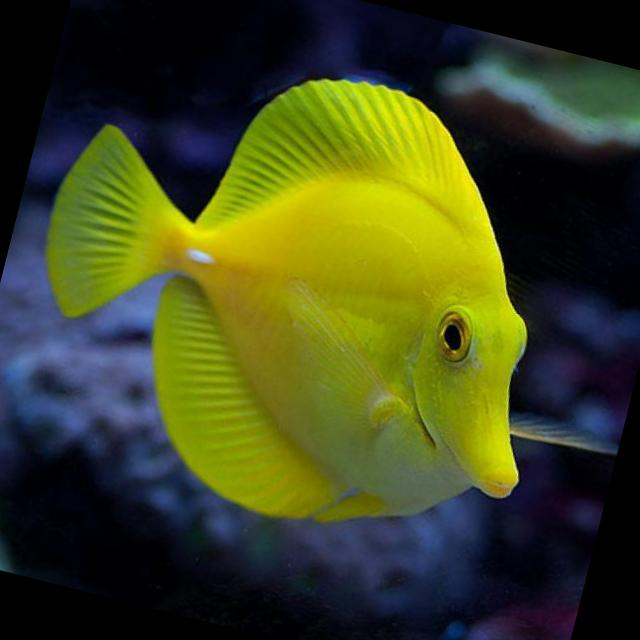TangFish: (0, 18, 605, 577)
